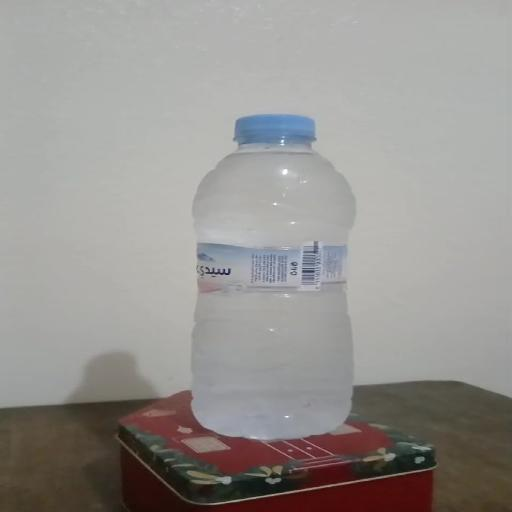bouteille conformite: (180, 106, 366, 440)
